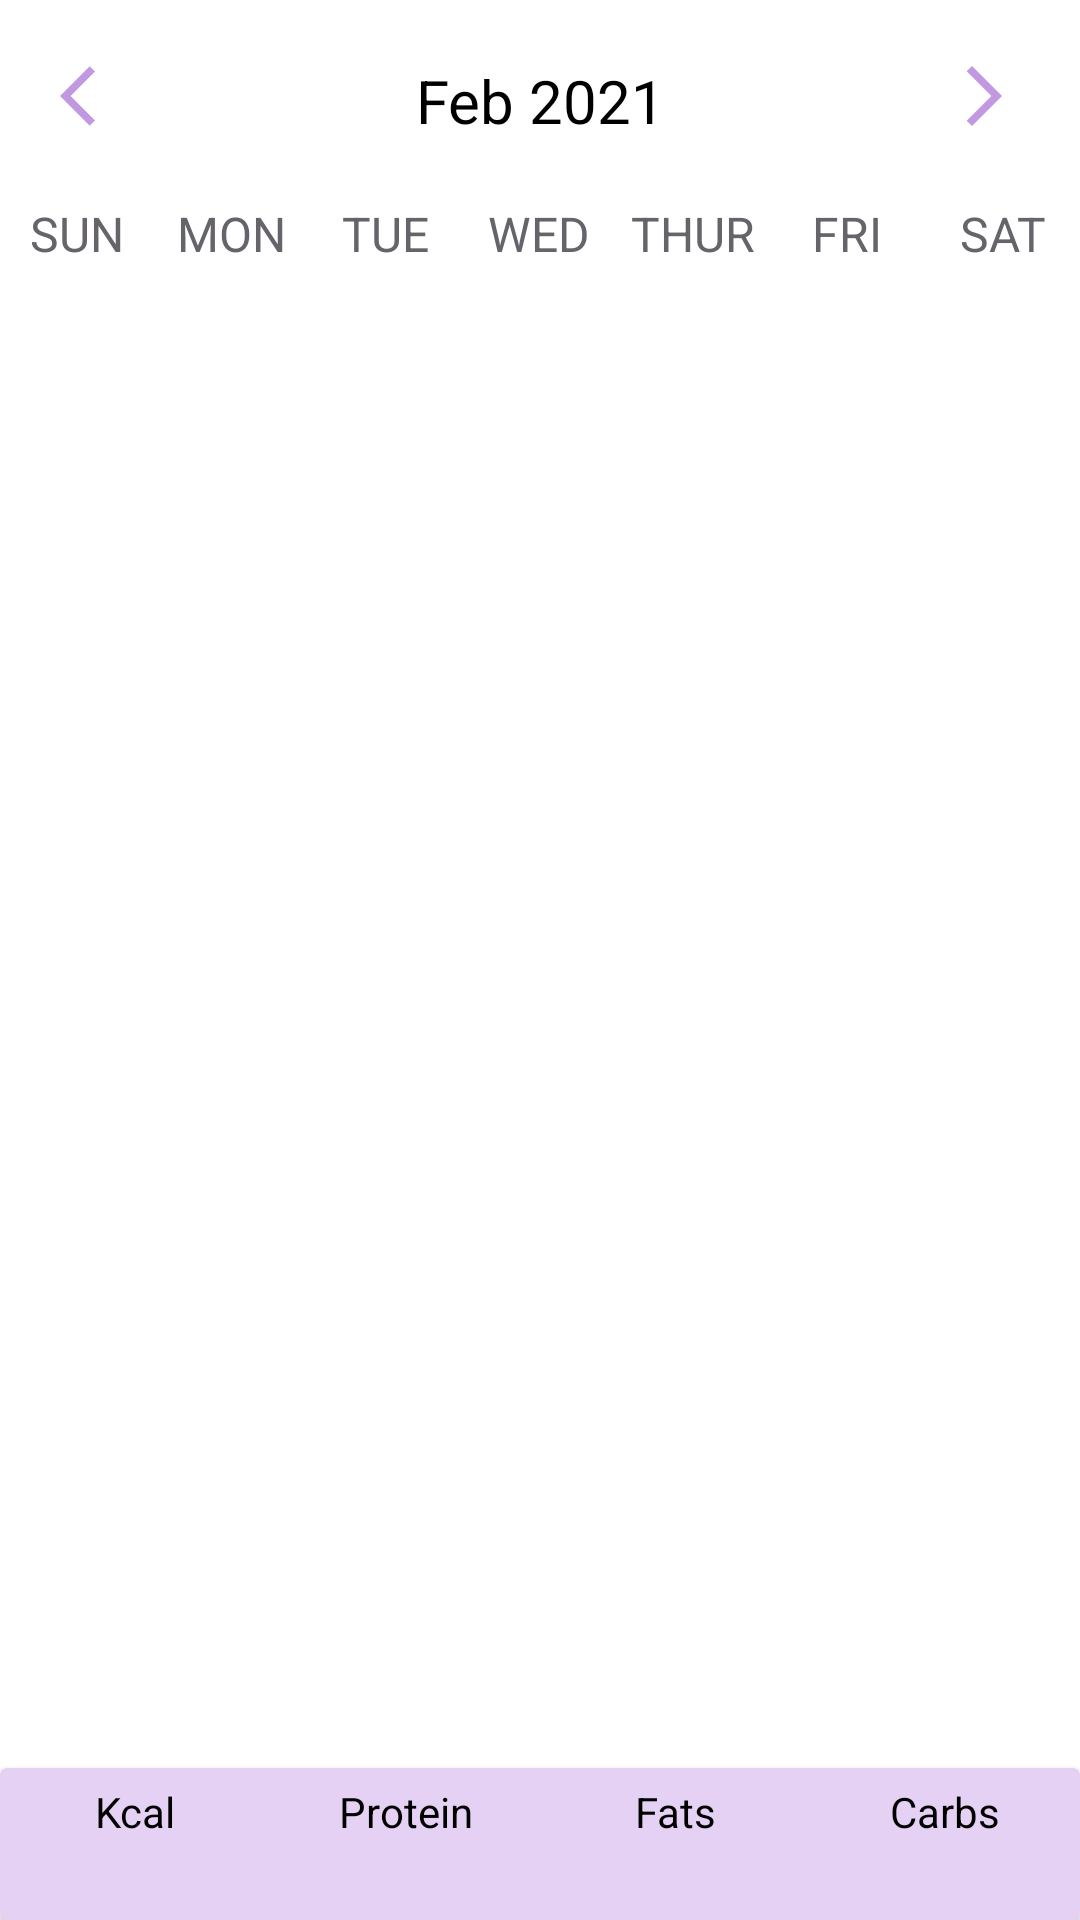

Where icons sit on this 1080*1920 app screen, as (x1, y1, x2, y2):
arrow back: (60, 66, 95, 126)
arrow forward: (967, 66, 1002, 126)
